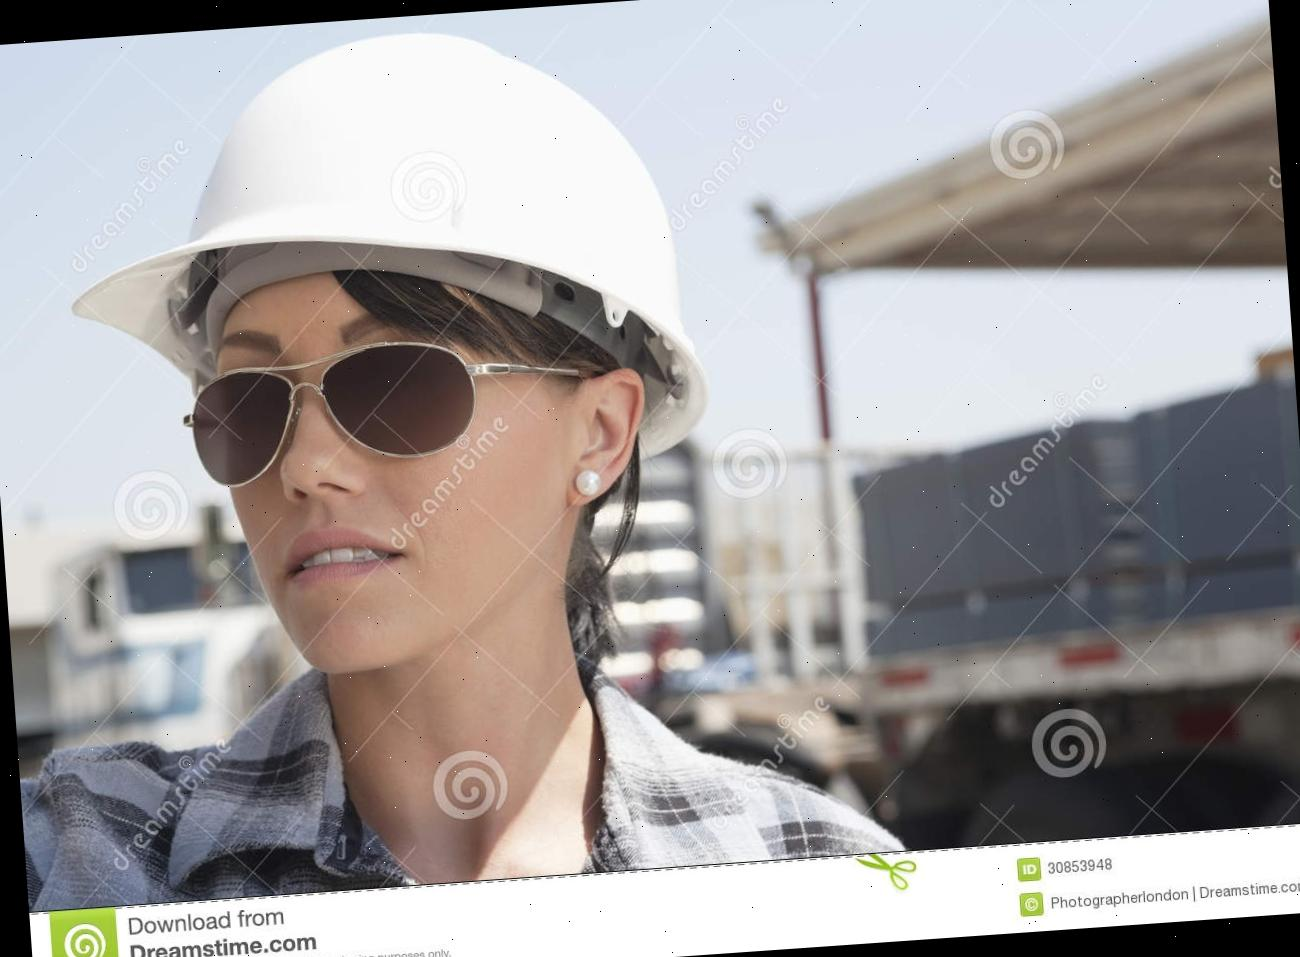helmet: (43, 7, 713, 501)
